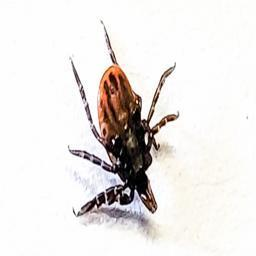Ixodes scapularis: (66, 17, 181, 222)
